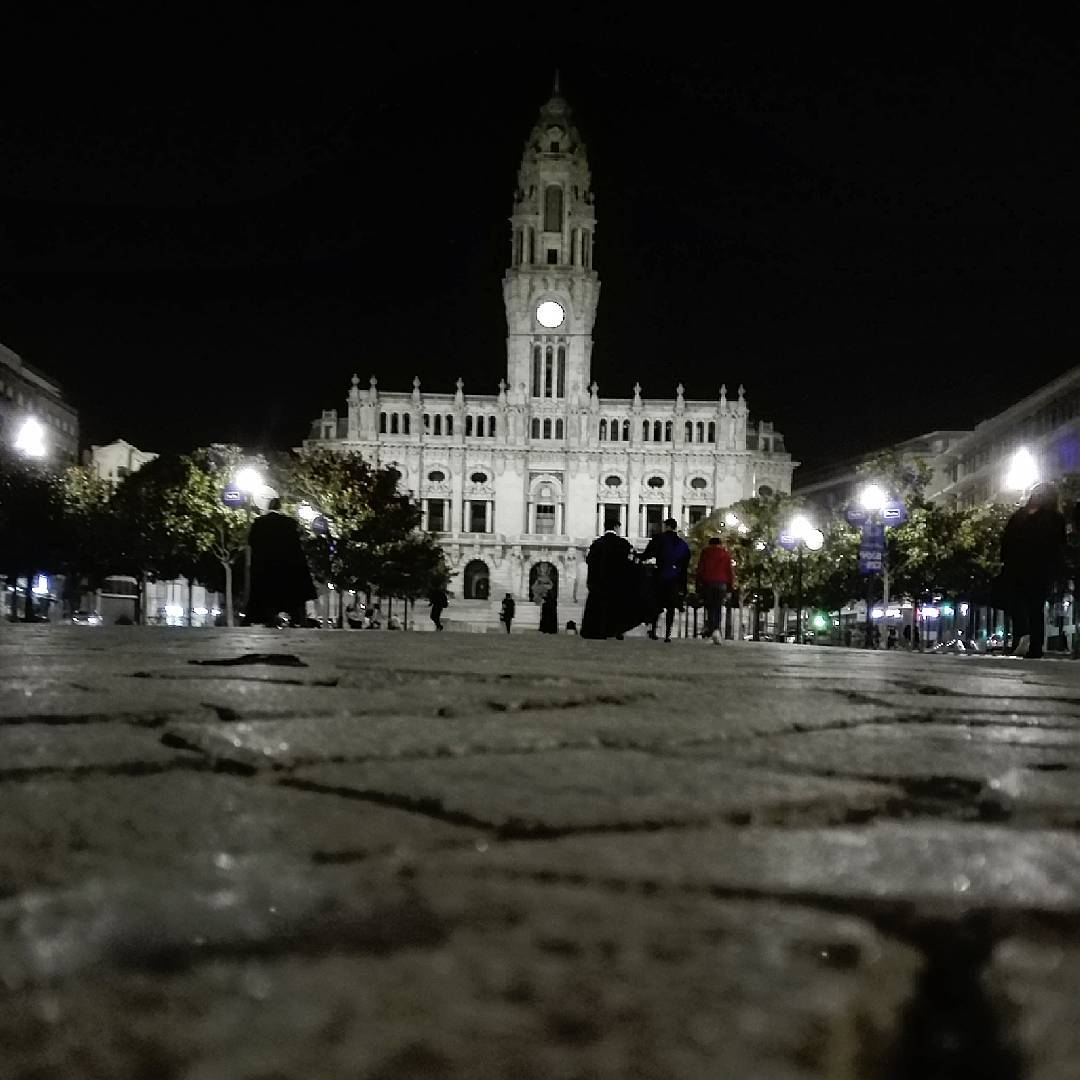camara: (292, 76, 799, 624)
